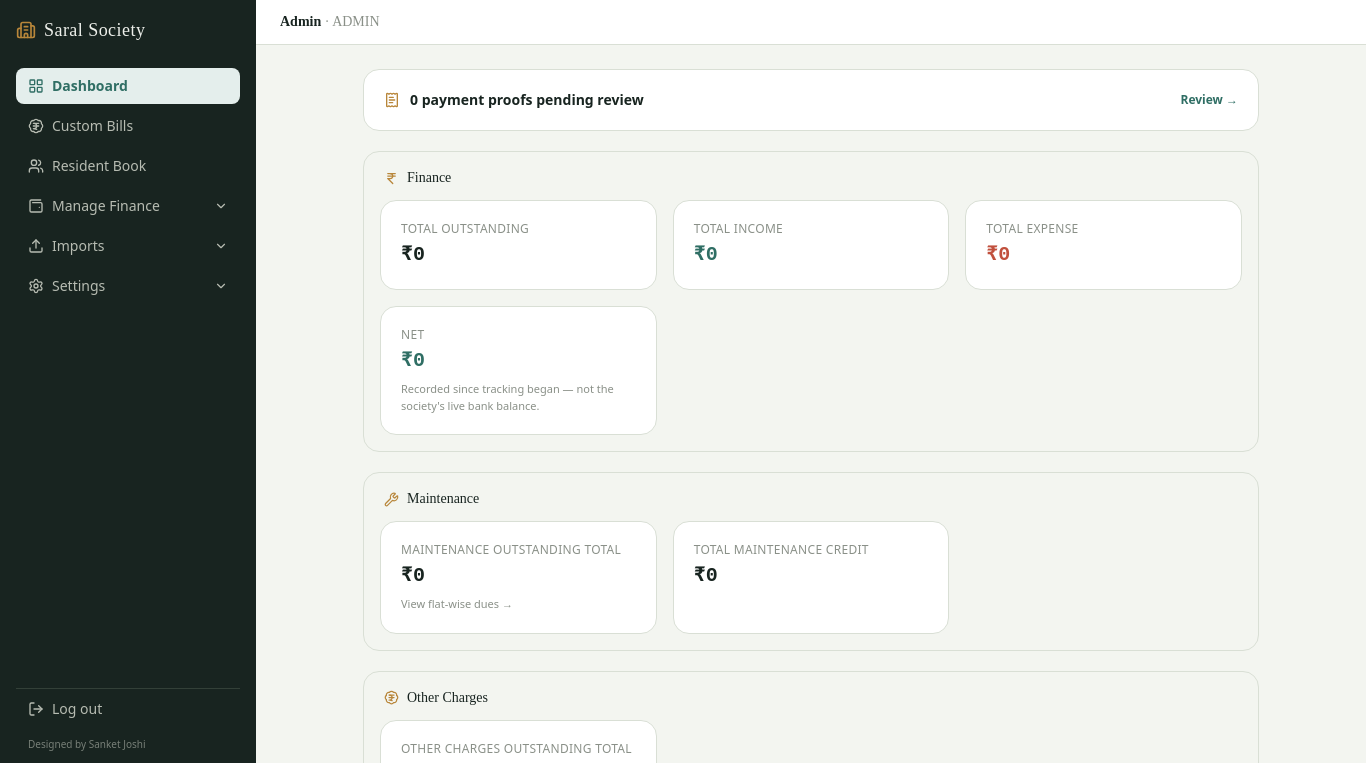
DashboardLayout › expands the Settings submenu on click, revealing Society details, Billing plan, and Fee types as real top-level URLs
Click the button "Settings" at (128, 286), box [16,268,240,304]
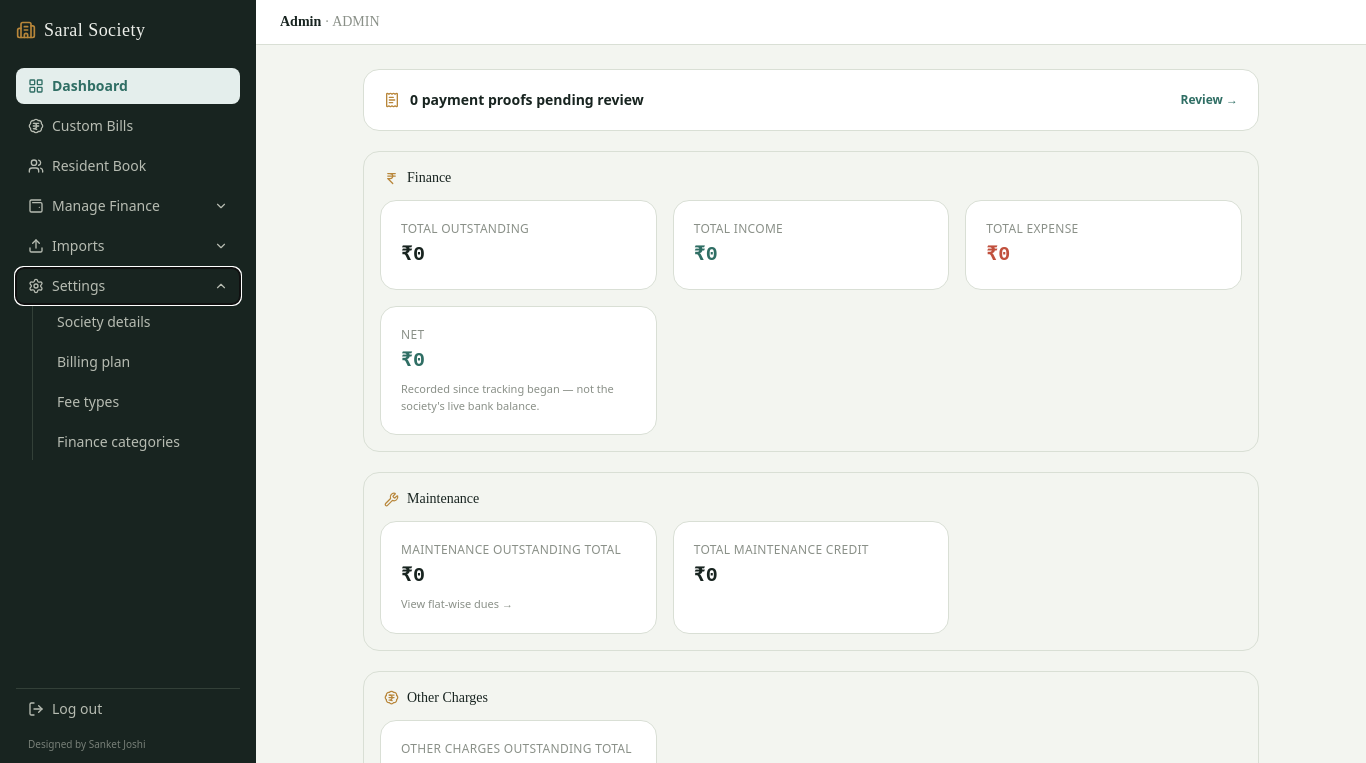
Toggling again collapses it.
Click the button "Settings" at (128, 286), box [16,268,240,304]
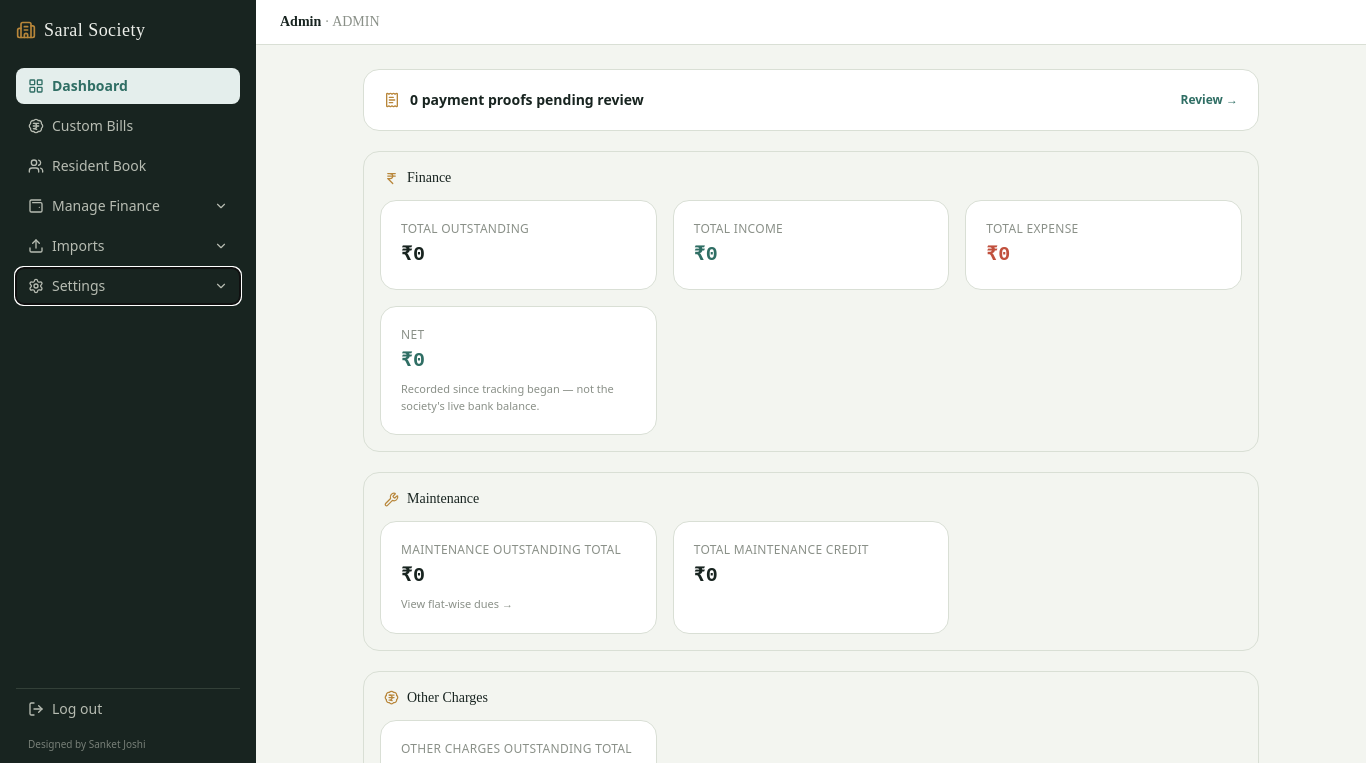
Now the link "Society details" is gone
Now the link "Billing plan" is gone
